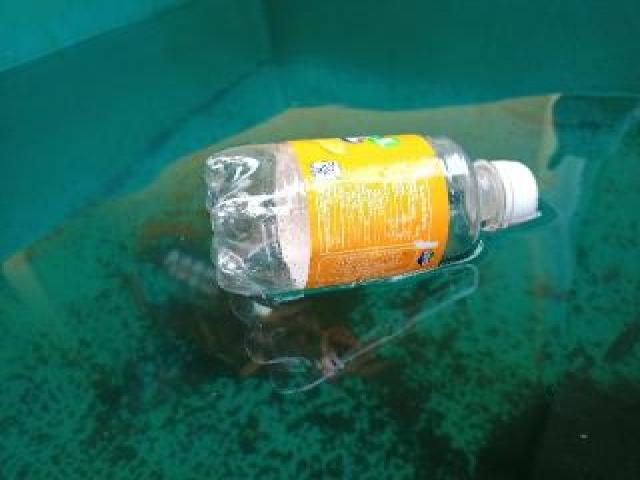Bottle: (203, 135, 541, 302)
